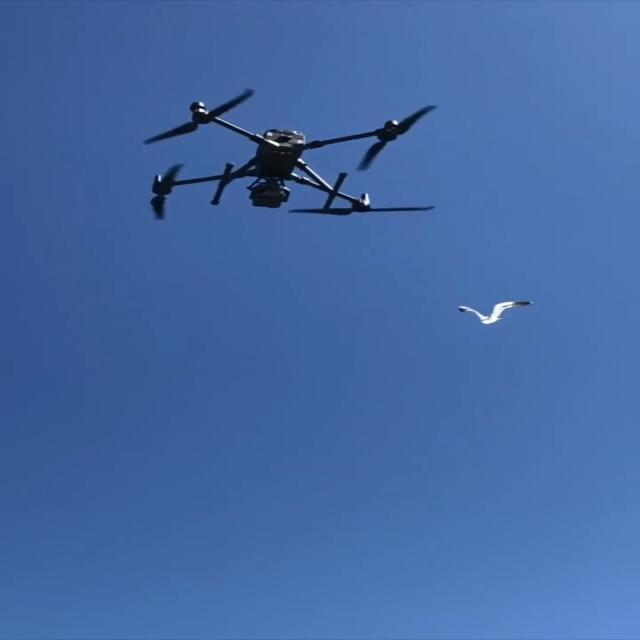bird: (456, 300, 534, 324)
drone: (142, 87, 438, 219)
